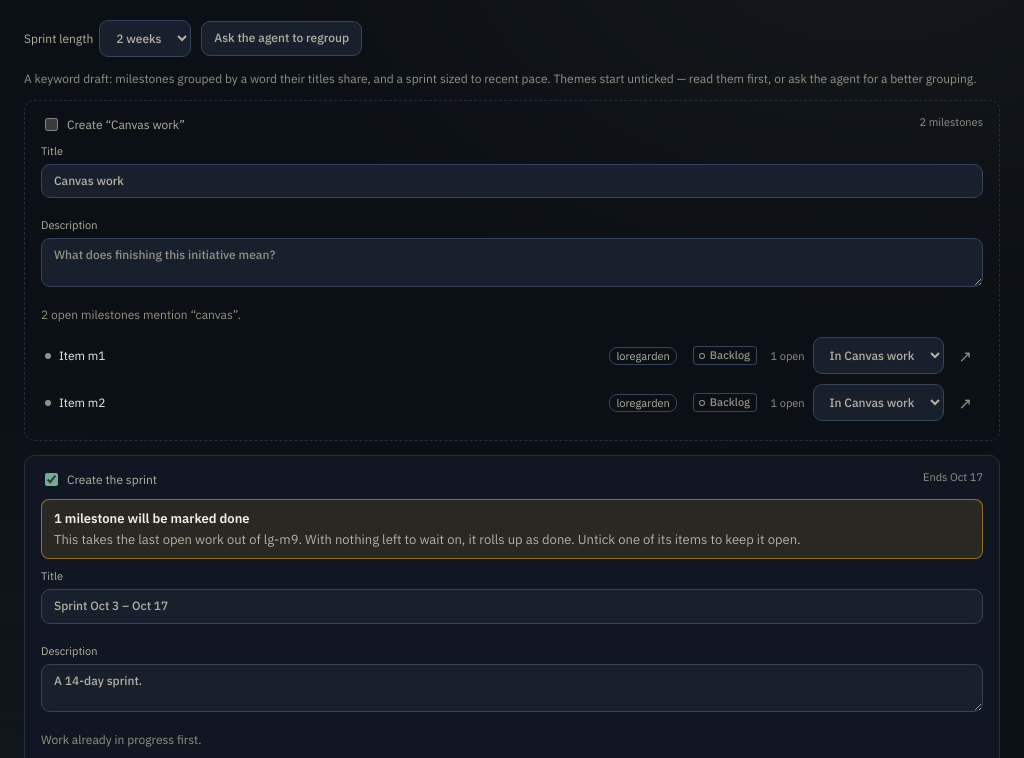
Test: the agent's grouping replaces the draft, and the draft's edits come back after
Type "kept" into the text box labelled "Description" below "Create “". click: (512, 263)
box: [41, 238, 983, 287]
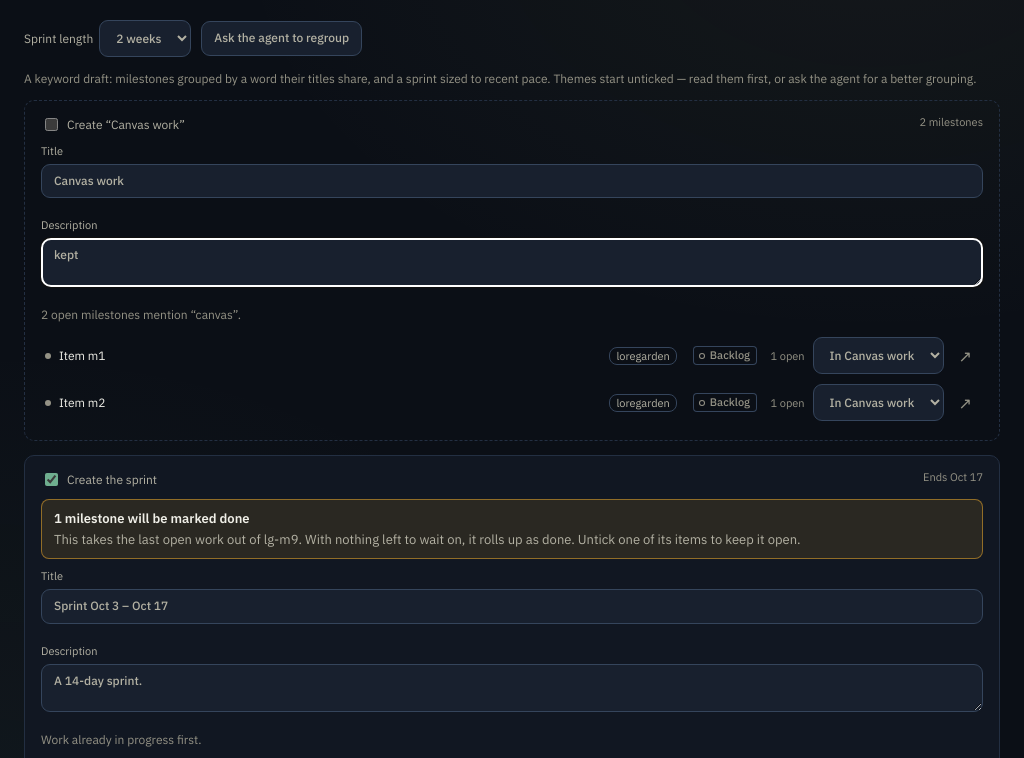
Click the button "Ask the agent to regroup". click: (282, 38)
box: [201, 21, 362, 56]
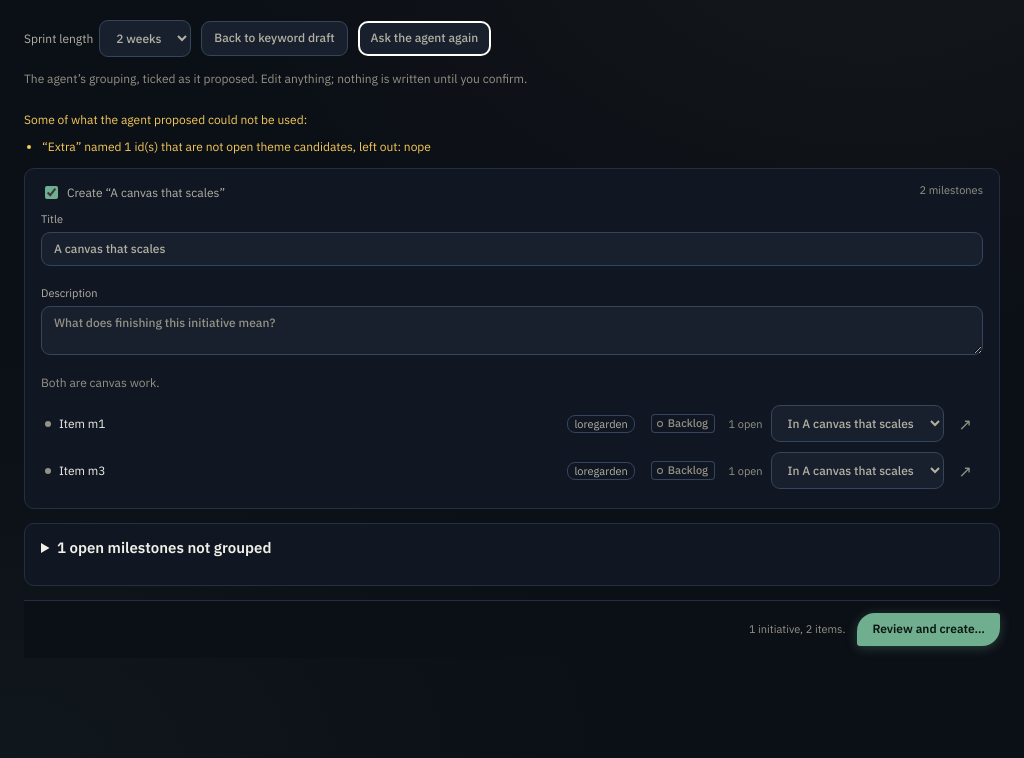
Expected: the field showing "A canvas that scales" is shown, [41, 232, 983, 266]
Expected: the checkbox labelled "Create “A canvas that scales”" is checked, [45, 186, 58, 199]
Expected: the list item "left out: nope" is shown, [42, 139, 431, 154]
Click the button "Back to keyword draft". click: (274, 38)
box: [201, 21, 348, 56]
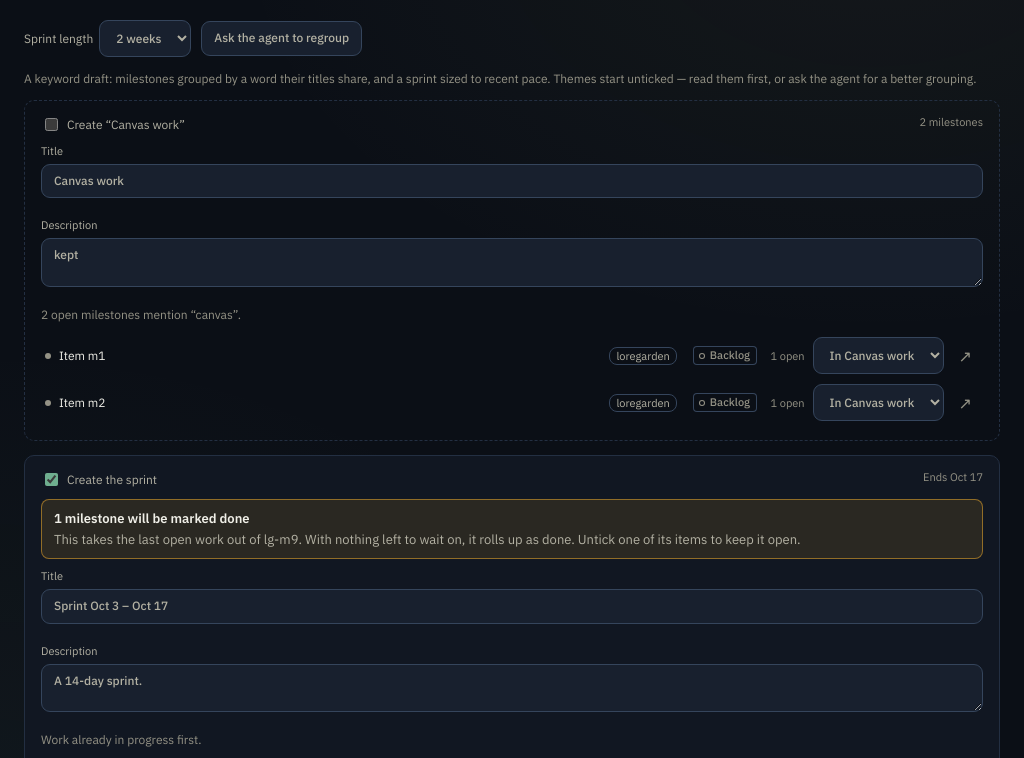
Expected: the text box labelled "Description" below "Create “" holds "kept", [41, 238, 983, 287]
